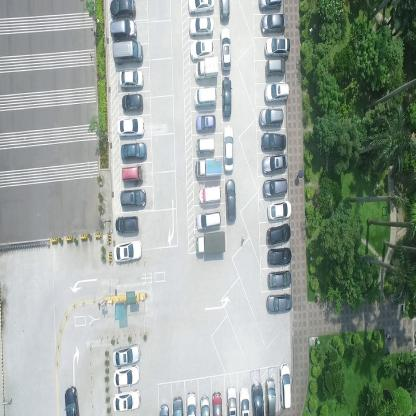car: (112, 237, 142, 263), (112, 39, 142, 64), (195, 230, 226, 254), (111, 345, 139, 370), (112, 362, 140, 387), (112, 388, 140, 412), (194, 55, 219, 81), (261, 151, 288, 175), (115, 115, 144, 137), (194, 156, 221, 179), (279, 362, 292, 409), (264, 79, 290, 102), (265, 291, 292, 313), (109, 17, 137, 38), (266, 221, 290, 245), (266, 197, 291, 220), (258, 105, 284, 127), (260, 12, 286, 34), (264, 36, 290, 58), (262, 175, 287, 197), (120, 141, 146, 162), (196, 209, 222, 230), (119, 186, 146, 206), (223, 124, 234, 173), (190, 37, 214, 59), (224, 175, 236, 219), (119, 69, 144, 90), (260, 132, 287, 151), (63, 385, 80, 415), (189, 15, 213, 36), (193, 86, 217, 107), (267, 268, 292, 288), (109, 0, 136, 18), (220, 26, 231, 70), (197, 186, 221, 206), (114, 214, 138, 233), (268, 245, 292, 264), (251, 381, 264, 415), (120, 164, 142, 184), (265, 376, 276, 416), (222, 75, 232, 117), (264, 56, 285, 76), (121, 93, 143, 112), (196, 113, 216, 132), (187, 0, 214, 14), (196, 136, 215, 154), (226, 385, 237, 415), (239, 387, 250, 415), (186, 390, 198, 415), (219, 0, 231, 22), (258, 0, 282, 11), (172, 394, 184, 415), (212, 392, 222, 415), (200, 394, 210, 416)
